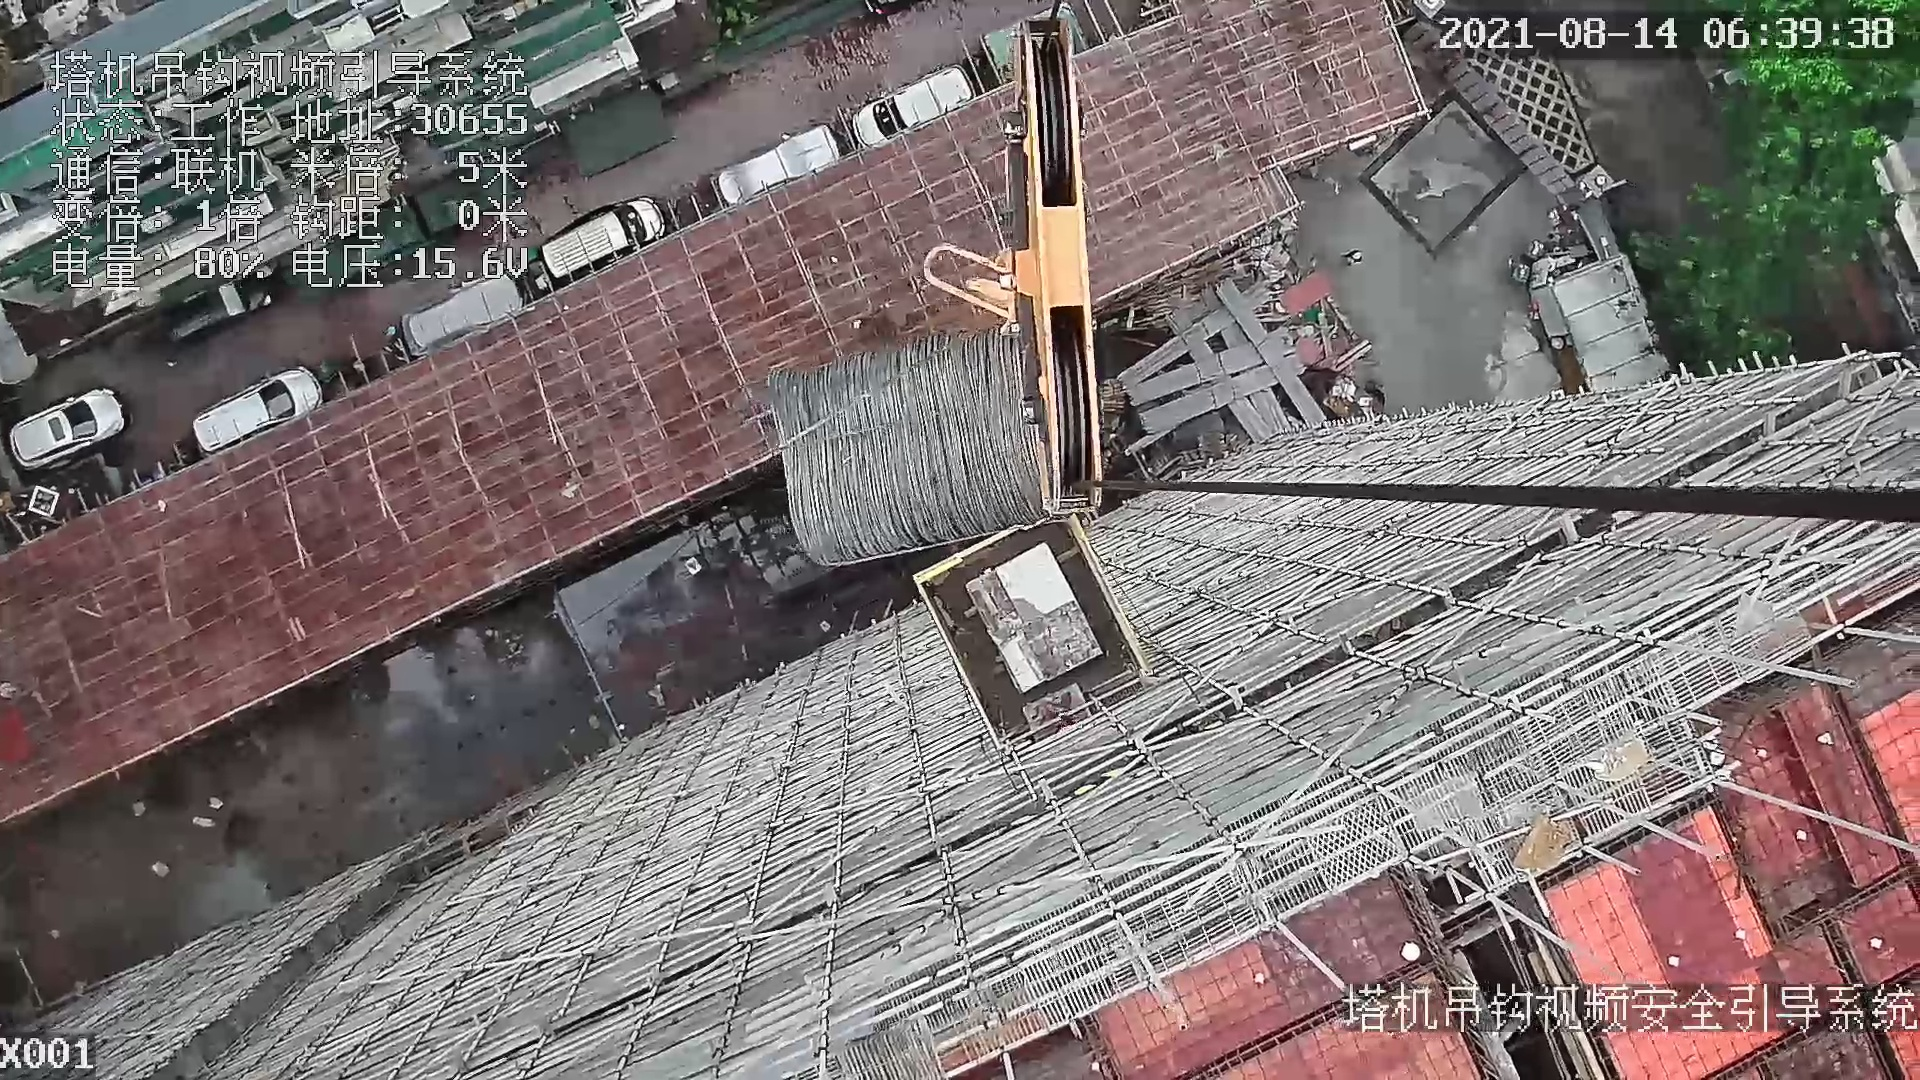hook: (913, 13, 1118, 517)
